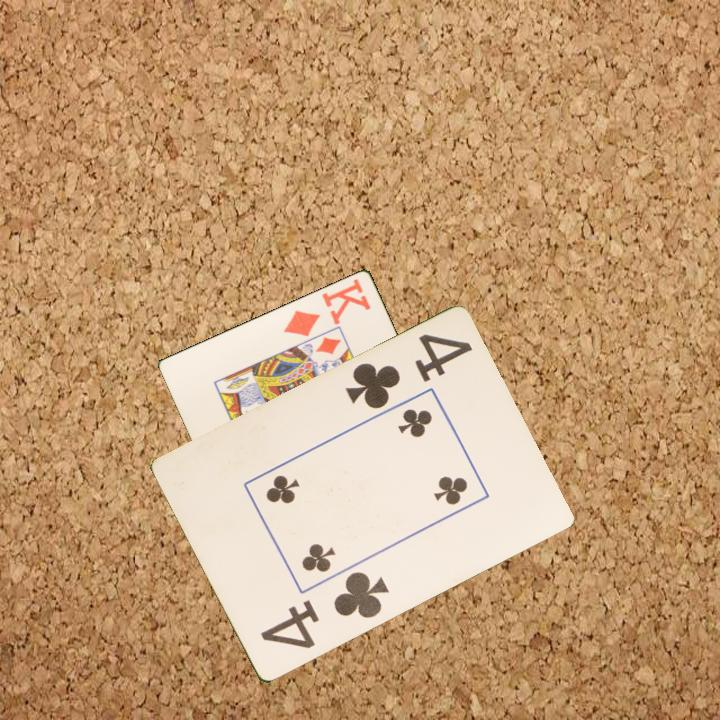4c: (256, 568, 392, 653), (341, 330, 475, 413)
Kd: (280, 275, 374, 339)
